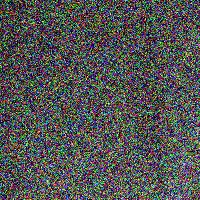inclusion: (124, 3, 167, 197)
